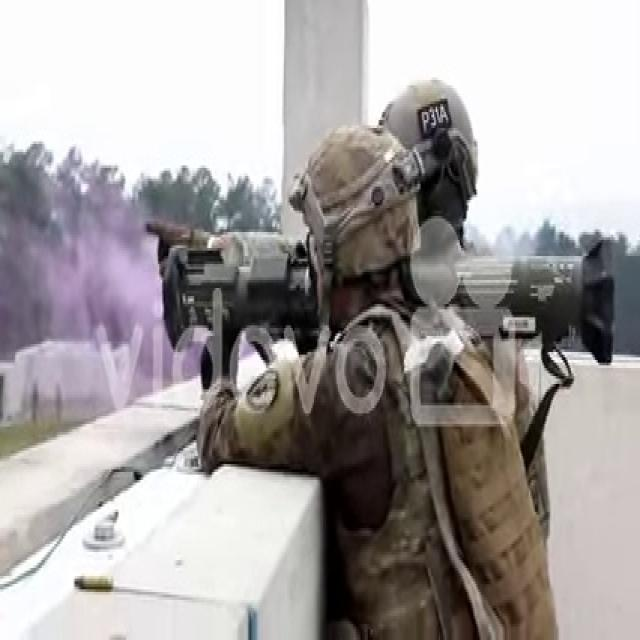bazooka: (158, 224, 628, 383)
